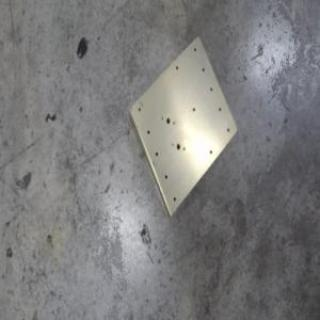MetalSheettrack_idkeyframe: (126, 34, 237, 218)
